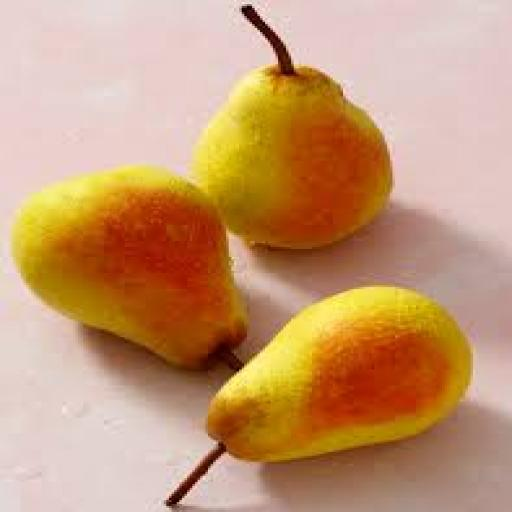Pear: (167, 288, 470, 505), (193, 7, 392, 248), (13, 167, 244, 367)
